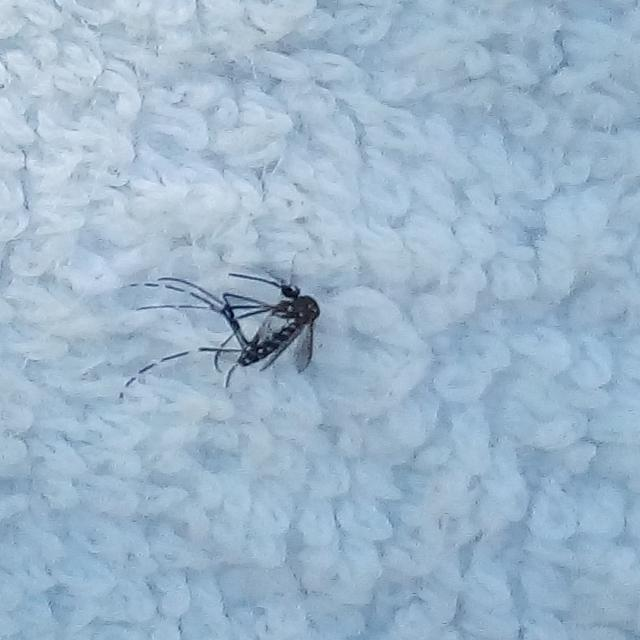albopictus: (125, 250, 324, 394)
